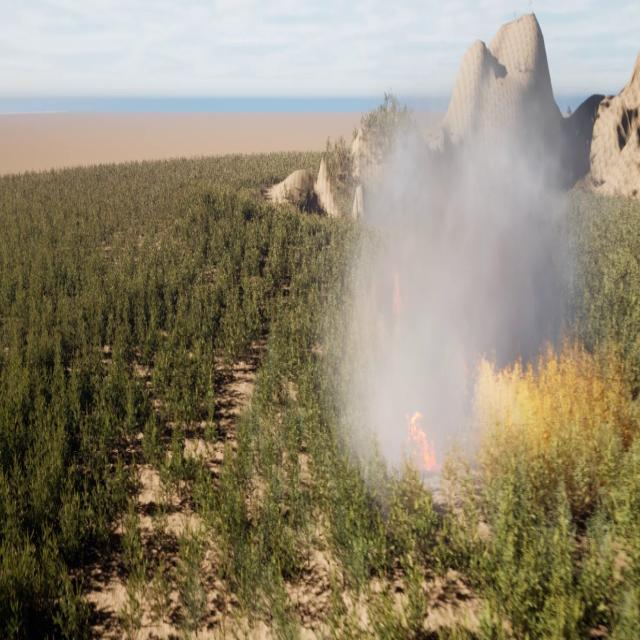fire: (473, 332, 602, 432), (405, 405, 439, 465)
smoke: (333, 94, 589, 504)
